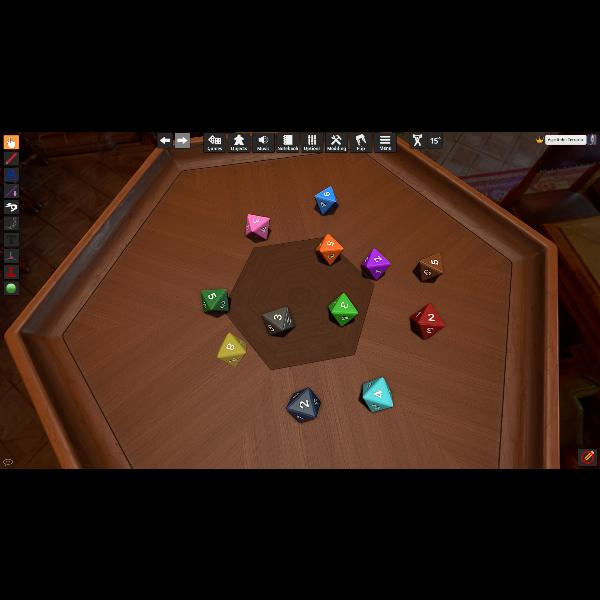d8: (412, 303, 445, 339), (285, 386, 318, 420), (360, 375, 392, 409), (328, 292, 358, 326), (218, 332, 246, 364), (363, 247, 390, 279), (262, 306, 292, 334), (316, 233, 342, 265), (420, 252, 444, 282), (200, 289, 228, 314), (314, 186, 338, 214), (245, 213, 269, 239)
